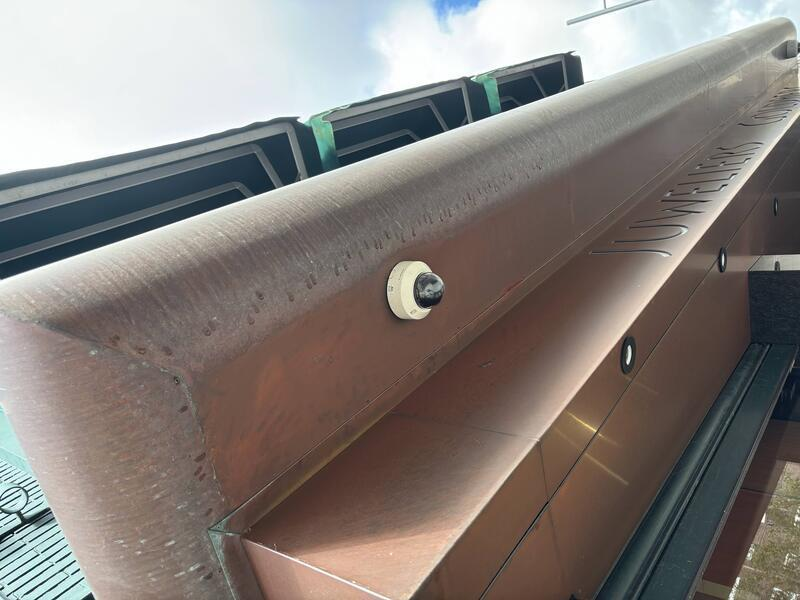dome: (278, 383, 344, 449)
